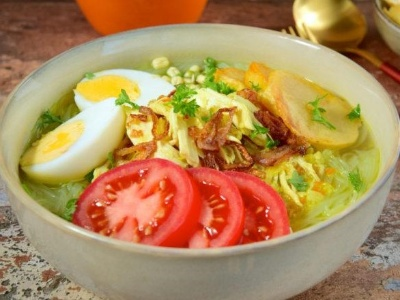soto: (51, 59, 349, 238)
